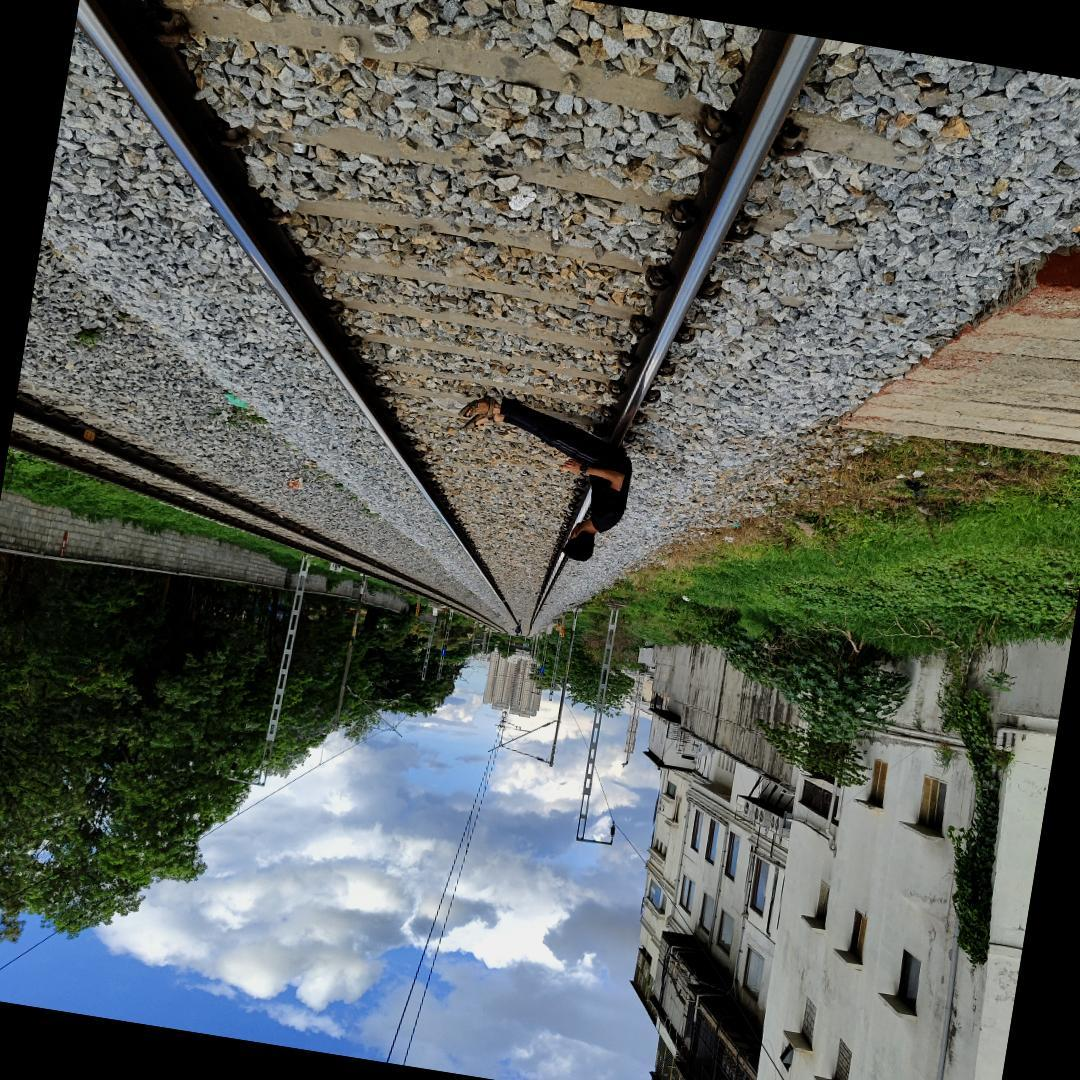sitting: (472, 388, 638, 568)
